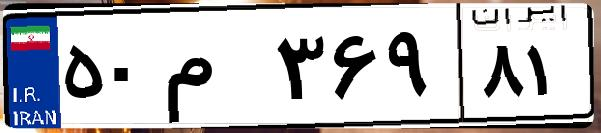0: (110, 28, 158, 98)
1: (525, 38, 570, 115)
3: (270, 28, 330, 110)
5: (57, 26, 110, 100)
6: (330, 28, 385, 110)
8: (475, 38, 525, 113)
9: (385, 28, 445, 110)
م: (158, 20, 270, 120)
